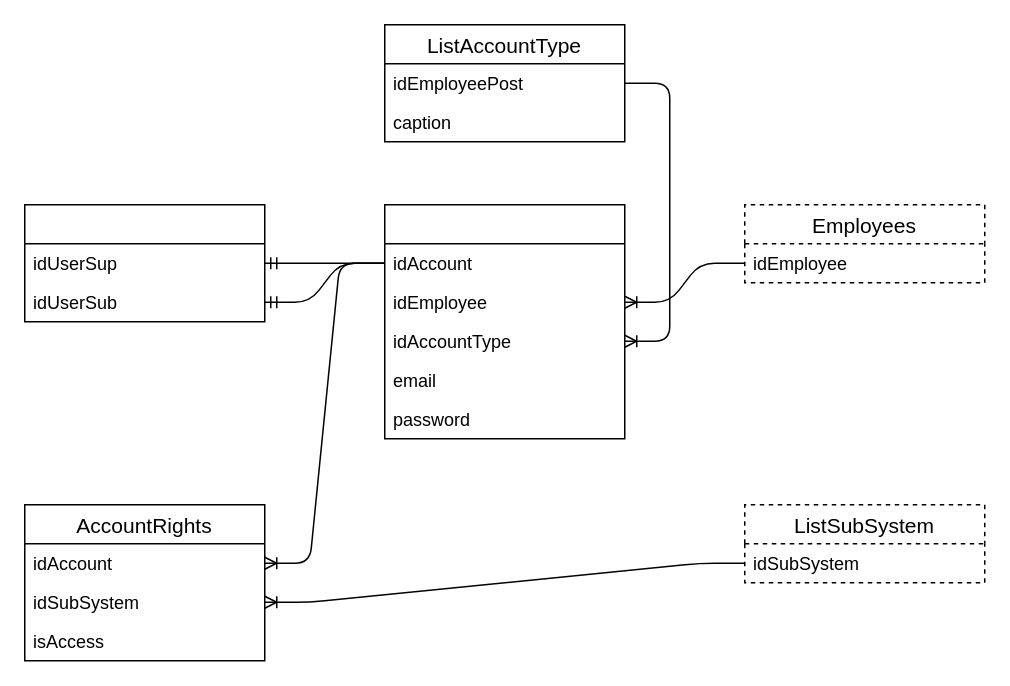
The diagram is 1010 pixels wide and 686 high, and some of its shapes have lost their labels. The shapes that lost their labels are listed below. From the top down, each one's box as (x1, y1, x2, y2) in pixels, then its label:
(23, 203, 265, 322): AccountHierarchy
(383, 203, 625, 439): Accounts
